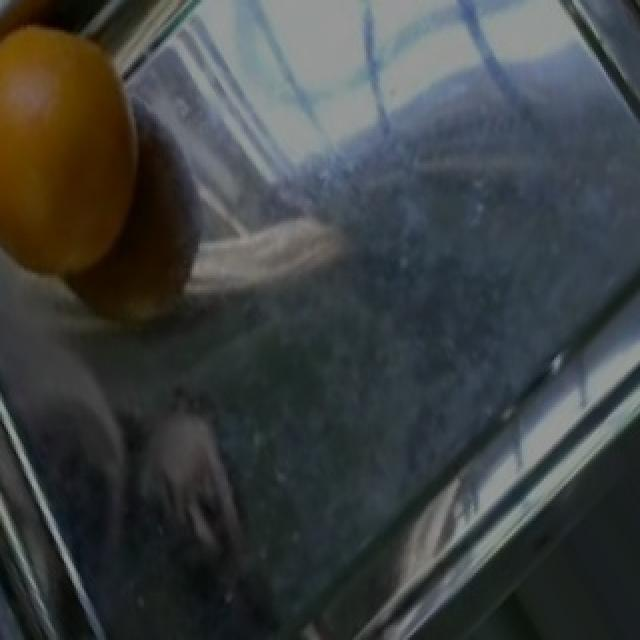Fruit: (2, 0, 162, 308)
